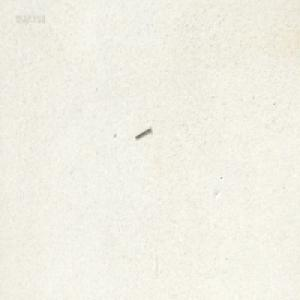Bolt: (134, 125, 151, 139)
